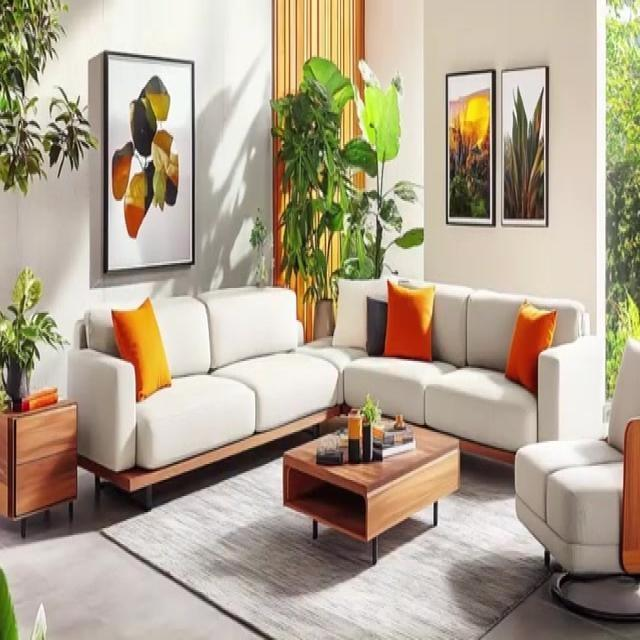obstacle: (66, 282, 341, 510), (299, 274, 599, 470), (514, 336, 639, 620), (282, 412, 460, 564)
